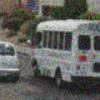buses: (32, 19, 100, 92)
